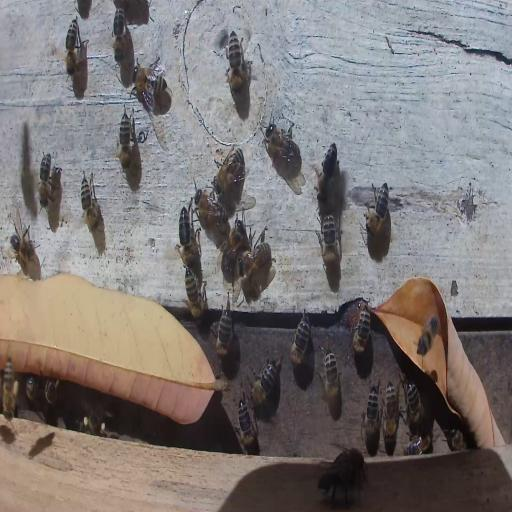bee: (262, 115, 300, 166), (320, 464, 364, 506), (250, 351, 282, 407), (213, 147, 245, 193), (131, 60, 169, 98), (366, 180, 392, 235), (221, 221, 246, 278), (179, 205, 199, 275), (320, 350, 340, 418), (80, 170, 101, 232), (318, 141, 338, 204), (227, 29, 245, 99), (235, 397, 257, 454), (2, 356, 20, 422), (194, 189, 225, 227), (241, 237, 271, 276), (318, 212, 338, 270), (350, 304, 373, 354), (184, 269, 206, 320), (290, 315, 311, 368), (11, 225, 37, 267), (362, 386, 380, 446), (383, 380, 399, 446), (334, 445, 366, 478), (64, 16, 82, 74), (216, 308, 235, 362), (118, 107, 132, 174), (417, 315, 439, 355), (38, 150, 52, 210), (405, 381, 422, 429), (112, 3, 126, 61), (441, 426, 468, 451), (82, 410, 106, 438), (404, 434, 432, 456), (44, 378, 58, 405), (26, 374, 38, 404)
